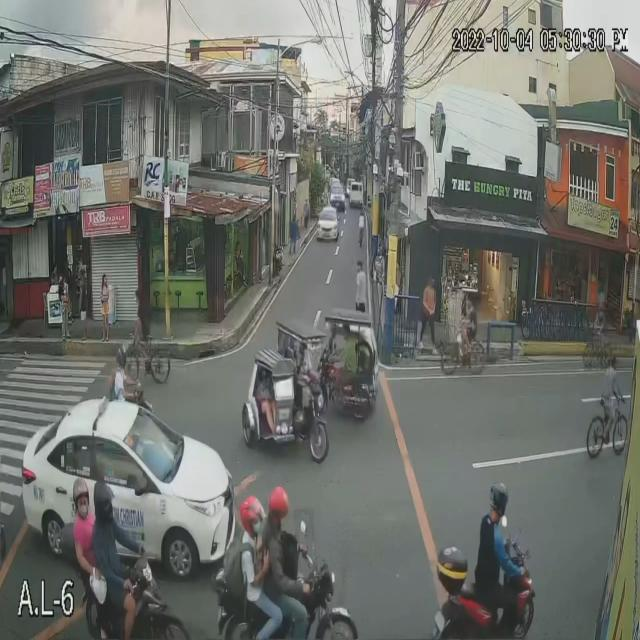full: (94, 483, 114, 522), (116, 345, 128, 368)
half: (240, 494, 265, 541), (269, 486, 289, 529), (73, 478, 91, 515), (490, 482, 508, 516)
